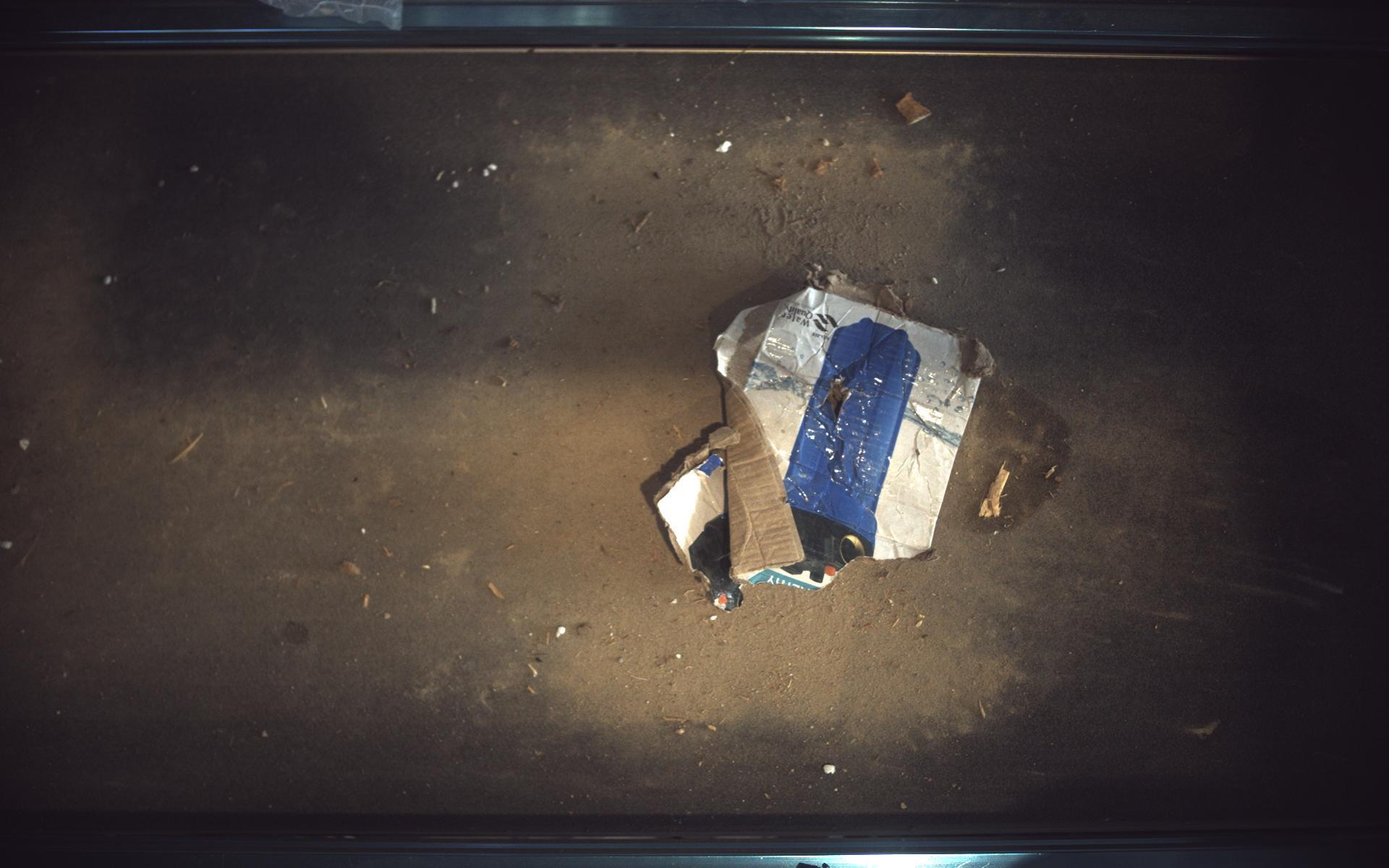general_w: (655, 283, 995, 611)
